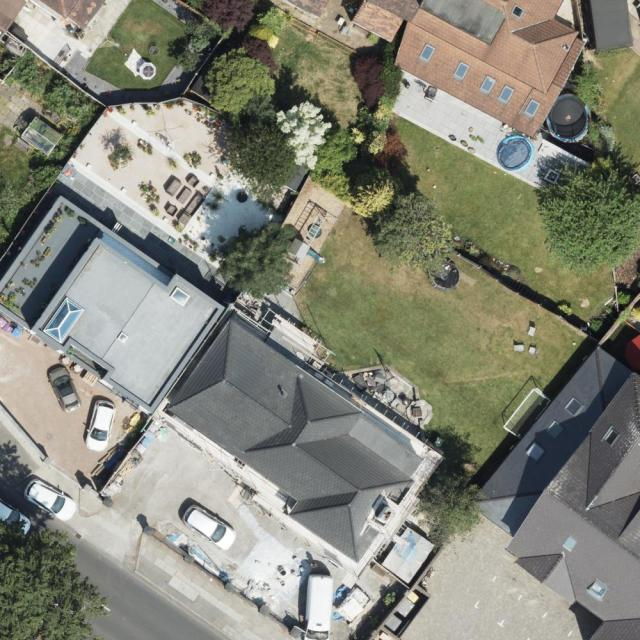roof: (167, 319, 432, 567), (466, 344, 640, 640), (0, 195, 225, 418), (351, 0, 585, 139), (0, 0, 106, 34)
skylight: (42, 294, 85, 345), (525, 439, 549, 462), (565, 395, 588, 419), (602, 423, 623, 449), (450, 58, 471, 82), (587, 577, 608, 600), (477, 72, 498, 95), (168, 286, 191, 306), (498, 81, 517, 105), (523, 97, 541, 118), (546, 419, 565, 438), (417, 43, 435, 62), (562, 536, 580, 554), (513, 4, 526, 19), (116, 330, 129, 343)
